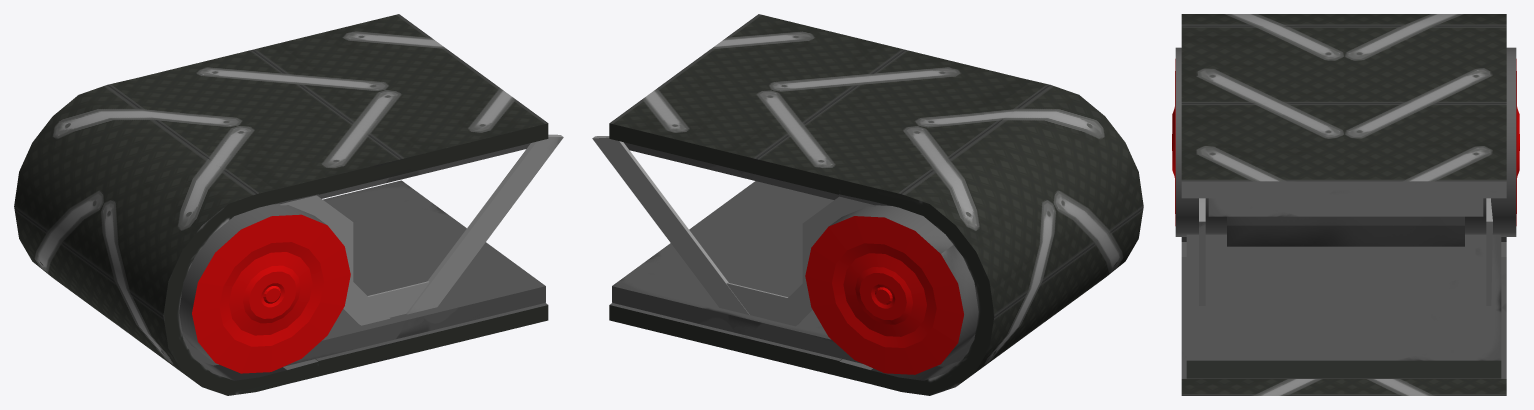
Rendered from ConveyorBeltStart.fbx.
3 views of the same model, side by side, from view 1: azimuth 30°, elevation 25°; view 2: azimuth 150°, elevation 25°; view 3: azimuth 270°, elevation 25° (orthographic). The views are drawn at different scales.
Visible parts, largest first — view 1: polySurface373; view 2: polySurface373; view 3: polySurface373.
Part boxes in pixels (x1,y1,x2,y2): polySurface373: [14, 14, 563, 395]; polySurface373: [592, 14, 1143, 395]; polySurface373: [1172, 14, 1519, 395].
Size of the model in its own units: 76.15 by 35.25 by 51.6.
